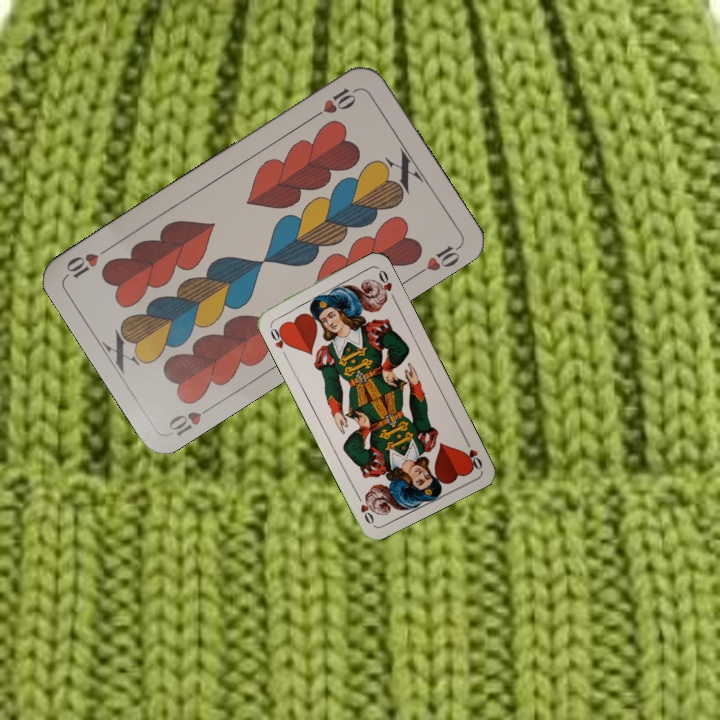H10: (164, 400, 218, 439), (308, 84, 361, 122)
HO: (265, 321, 293, 359), (460, 434, 485, 472)
